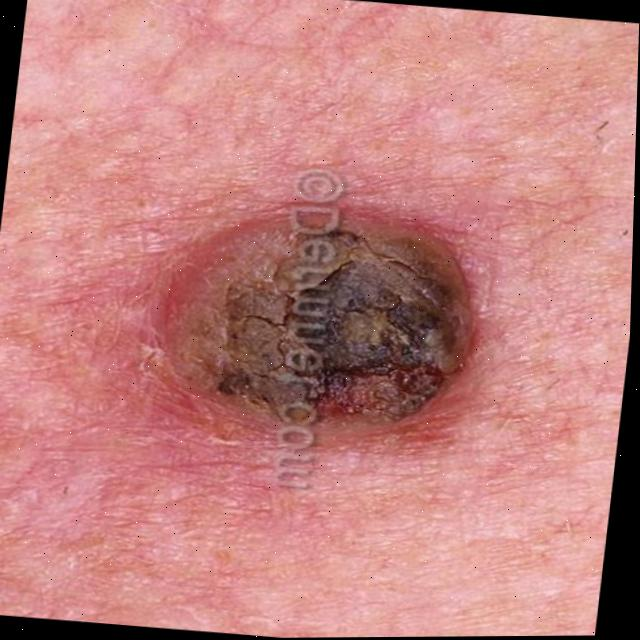Eczema: (182, 210, 470, 427)
